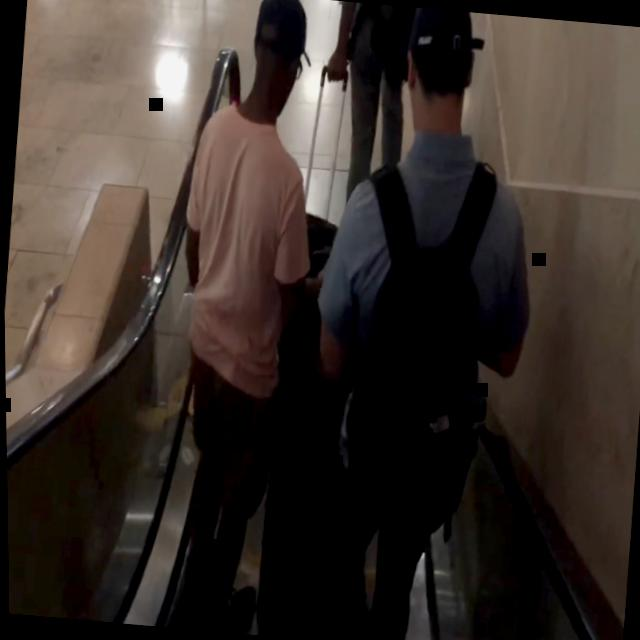luggage: (253, 425, 381, 640), (266, 200, 368, 433)
